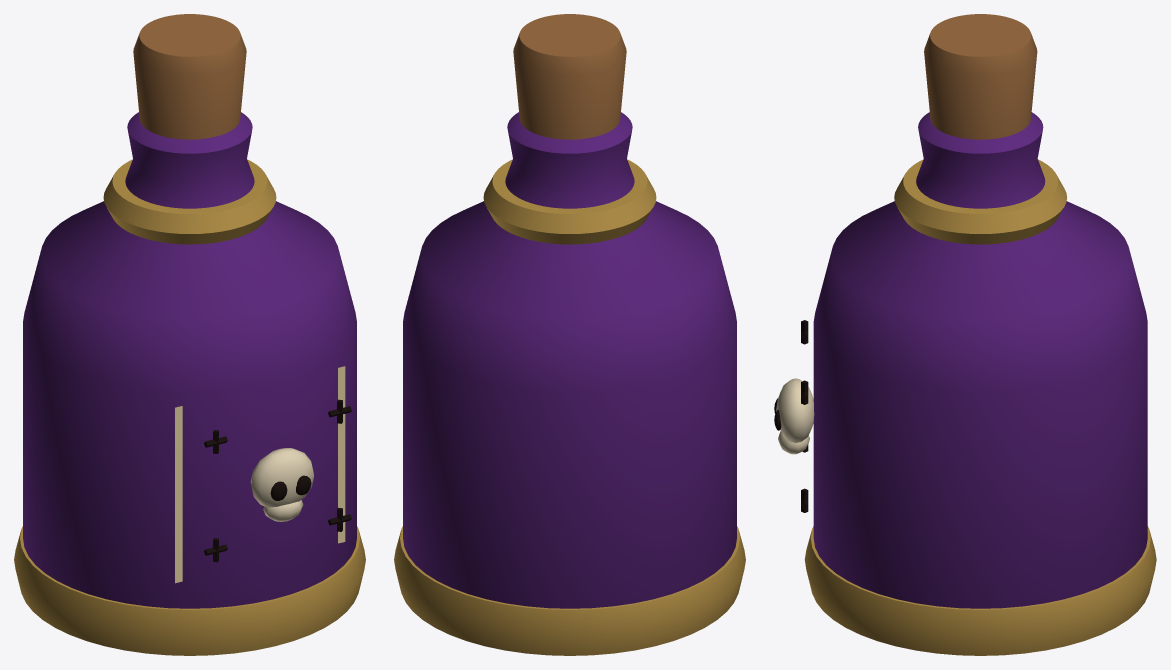
File: PR_PoisonBottle.fbx
The picture shows the model from 3 angles, left to right: view 1: azimuth 30°, elevation 25°; view 2: azimuth 150°, elevation 25°; view 3: azimuth 270°, elevation 25°; orthographic projection.
Visible parts, largest first — view 1: PR_PoisonBottle_Purple, PR_PoisonBottle_Brass, PR_PoisonBottle_Cork, PR_PoisonBottle_Bone, PR_PoisonBottle_Label, PR_PoisonBottle_Line; view 2: PR_PoisonBottle_Purple, PR_PoisonBottle_Brass, PR_PoisonBottle_Cork; view 3: PR_PoisonBottle_Purple, PR_PoisonBottle_Brass, PR_PoisonBottle_Cork, PR_PoisonBottle_Bone, PR_PoisonBottle_Line.
Boxes of the visible parts, bbox=[...] form: PR_PoisonBottle_Purple: bbox=[23, 112, 356, 608]; PR_PoisonBottle_Brass: bbox=[14, 159, 365, 655]; PR_PoisonBottle_Cork: bbox=[133, 14, 246, 139]; PR_PoisonBottle_Bone: bbox=[250, 448, 313, 521]; PR_PoisonBottle_Label: bbox=[175, 366, 345, 583]; PR_PoisonBottle_Line: bbox=[204, 399, 351, 562]; PR_PoisonBottle_Purple: bbox=[403, 112, 736, 608]; PR_PoisonBottle_Brass: bbox=[394, 159, 745, 655]; PR_PoisonBottle_Cork: bbox=[513, 14, 626, 139]; PR_PoisonBottle_Purple: bbox=[813, 112, 1147, 608]; PR_PoisonBottle_Brass: bbox=[804, 159, 1156, 655]; PR_PoisonBottle_Cork: bbox=[924, 14, 1037, 139]; PR_PoisonBottle_Bone: bbox=[776, 378, 814, 454]; PR_PoisonBottle_Line: bbox=[774, 320, 808, 512].
Bounding box in the file's own units: 0.118 × 0.206 × 0.1282.
